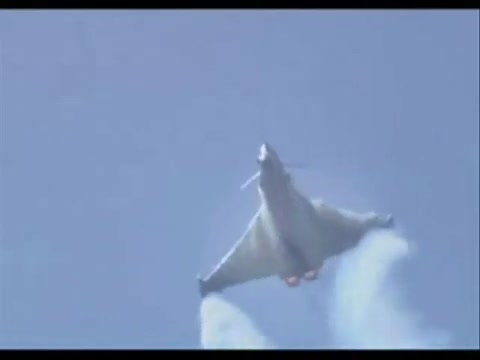aeroplane: (196, 142, 396, 302)
